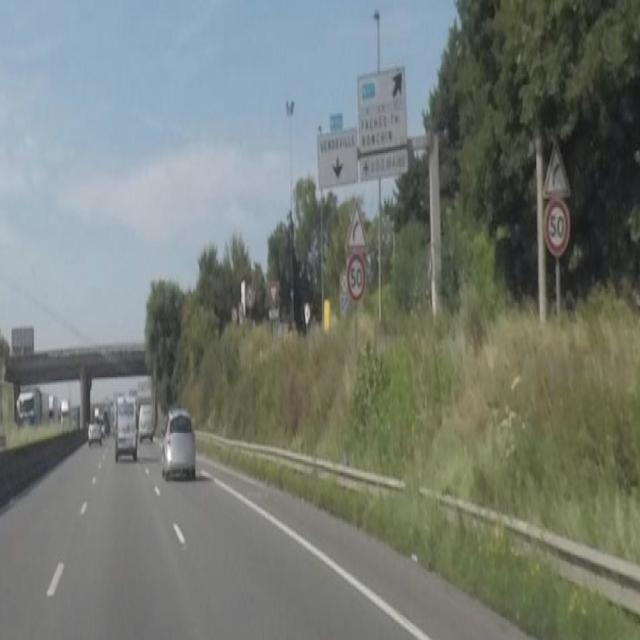speed_50: (545, 199, 570, 256), (347, 253, 366, 302)
